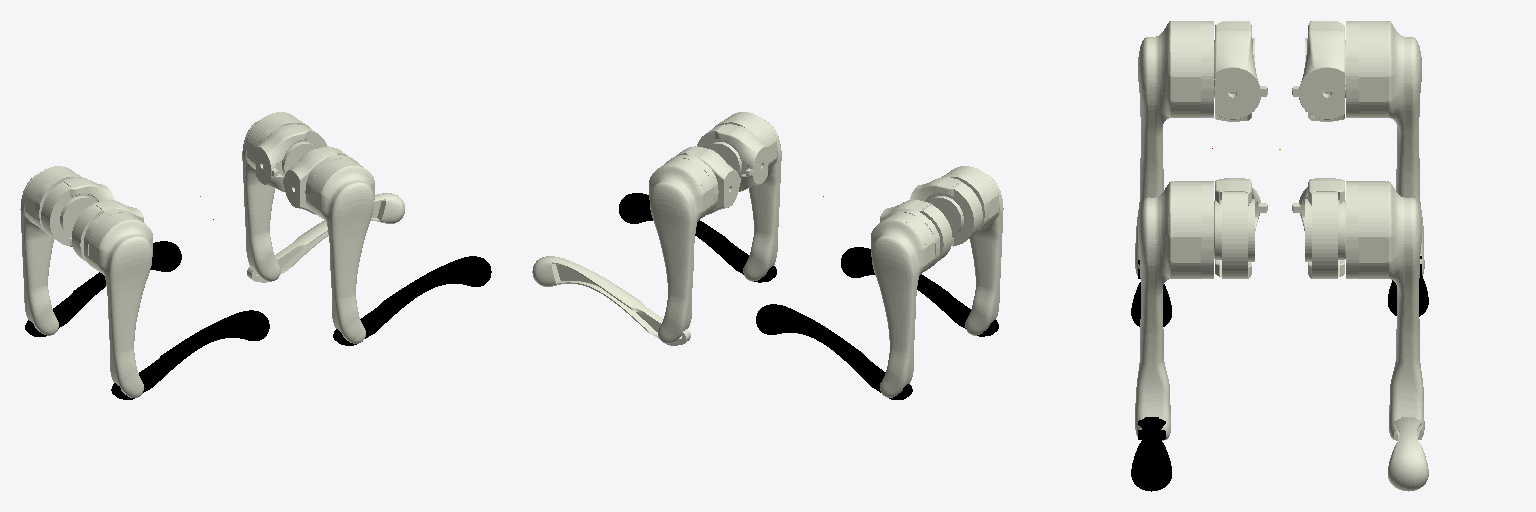
The robot description file, URDF, robot "go1_description":
<?xml version="1.0" ?>
<robot name="go1_description" xmlns:xacro="http://www.ros.org/wiki/xacro">
  <material name="black">
    <color rgba="0.0 0.0 0.0 1.0"/>
  </material>
  <material name="blue">
    <color rgba="0.0 0.0 0.8 1.0"/>
  </material>
  <material name="green">
    <color rgba="0.0 0.8 0.0 1.0"/>
  </material>
  <material name="grey">
    <color rgba="0.2 0.2 0.2 1.0"/>
  </material>
  <material name="silver">
    <color rgba="0.913725490196 0.913725490196 0.847058823529 1.0"/>
  </material>
  <material name="orange">
    <color rgba="1.0 0.423529411765 0.0392156862745 1.0"/>
  </material>
  <material name="brown">
    <color rgba="0.870588235294 0.811764705882 0.764705882353 1.0"/>
  </material>
  <material name="red">
    <color rgba="0.8 0.0 0.0 1.0"/>
  </material>
  <material name="white">
    <color rgba="1.0 1.0 1.0 1.0"/>
  </material>


  <link name="base">
    <visual>
      <origin rpy="0 0 0" xyz="0 0 0"/>
      <geometry>
        <box size="0.001 0.001 0.001"/>
      </geometry>
    </visual>
  </link>
  <joint name="floating_base" type="fixed">
    <origin rpy="0 0 0" xyz="0 0 0"/>
    <parent link="base"/>
    <child link="trunk"/>
  </joint>
  <link name="trunk">
    <visual>
      <origin rpy="0 0 0" xyz="0 0 0"/>
      <geometry>
        <mesh filename="../meshes/trunk.stl" scale="1 1 1"/>
      </geometry>
      <material name="silver"/>
    </visual>
    <collision>
      <origin rpy="0 0 0" xyz="0 0 0"/>
      <geometry>
        <box size="0.3762 0.0935 0.114"/>
      </geometry>
    </collision>
    <inertial>
      <origin rpy="0 0 0" xyz="0.011611 0.004437 0.000108"/>
      <mass value="4.8"/>
      <inertia ixx="0.016130741919" ixy="0.000593180607" ixz="7.324662e-06" iyy="0.036507810812" iyz="2.0969537e-05" izz="0.044693872053"/>
    </inertial>
  </link>
  <joint name="imu_joint" type="fixed">
    <parent link="trunk"/>
    <child link="imu_link"/>
    <origin rpy="0 0 0" xyz="-0.01592 -0.06659 -0.00617"/>
  </joint>
  <link name="imu_link">
    <inertial>
      <mass value="0.001"/>
      <origin rpy="0 0 0" xyz="0 0 0"/>
      <inertia ixx="0.0001" ixy="0" ixz="0" iyy="0.0001" iyz="0" izz="0.0001"/>
    </inertial>
    <visual>
      <origin rpy="0 0 0" xyz="0 0 0"/>
      <geometry>
        <box size="0.001 0.001 0.001"/>
      </geometry>
      <material name="red"/>
    </visual>
    <!-- <collision>
      <origin rpy="0 0 0" xyz="0 0 0"/>
      <geometry>
        <box size=".001 .001 .001"/>
      </geometry>
    </collision> -->
  </link>
  <joint name="FR_hip_joint" type="revolute">
    <origin rpy="0 0 0" xyz="0.1881 -0.04675 0"/>
    <parent link="trunk"/>
    <child link="FR_hip"/>
    <axis xyz="1 0 0"/>
    <dynamics damping="0" friction="0"/>
    <limit effort="33.5" lower="-0.802851455917" upper="0.802851455917" velocity="50"/>
  </joint>
  <link name="FR_hip">
    <visual>
      <origin rpy="3.14159265359 0 0" xyz="0 0 0"/>
      <geometry>
        <mesh filename="../meshes/hip.stl" scale="1 1 1"/>
      </geometry>
      <material name="silver"/>
    </visual>
    <collision>
      <origin rpy="1.57079632679 0 0" xyz="0 -0.045 0"/>
      <geometry>
        <cylinder length="0.04" radius="0.046"/>
      </geometry>
    </collision>
    <inertial>
      <origin rpy="0 0 0" xyz="-0.00541 0.00074 6e-06"/>
      <mass value="0.510299"/>
      <inertia ixx="0.00030528937" ixy="7.788013e-06" ixz="2.2016e-07" iyy="0.000590894859" iyz="1.7175e-08" izz="0.000396594572"/>
    </inertial>
  </link>
  <joint name="FR_hip_fixed" type="fixed">
    <origin rpy="0 0 0" xyz="0 -0.08 0"/>
    <parent link="FR_hip"/>
    <child link="FR_thigh_shoulder"/>
  </joint>
  <!-- this link is only for collision -->
  <link name="FR_thigh_shoulder">
    <!-- <collision>
      <origin rpy="1.57079632679 0 0" xyz="0 0 0"/>
      <geometry>
        <cylinder length="0.032" radius="0.041"/>
      </geometry>
    </collision> -->
  </link>
  <joint name="FR_thigh_joint" type="revolute">
    <origin rpy="0 0 0" xyz="0 -0.08 0"/>
    <parent link="FR_hip"/>
    <child link="FR_thigh"/>
    <axis xyz="0 1 0"/>
    <dynamics damping="0" friction="0"/>
    <limit effort="33.5" lower="-1.0471975512" upper="4.18879020479" velocity="28"/>
  </joint>
  <link name="FR_thigh">
    <visual>
      <origin rpy="0 0 0" xyz="0 0 0"/>
      <geometry>
        <mesh filename="../meshes/thigh_mirror.stl" scale="1 1 1"/>
      </geometry>
      <material name="silver"/>
    </visual>
    <collision>
      <origin rpy="0 1.57079632679 0" xyz="0 0 -0.1065"/>
      <geometry>
        <box size="0.213 0.0245 0.034"/>
      </geometry>
    </collision>
    <inertial>
      <origin rpy="0 0 0" xyz="-0.003468 0.018947 -0.032736"/>
      <mass value="0.898919"/>
      <inertia ixx="0.005395867678" ixy="-1.02809e-07" ixz="0.000337529085" iyy="0.005142451046" iyz="5.816563e-06" izz="0.00102478732"/>
    </inertial>
  </link>
  <joint name="FR_calf_joint" type="revolute">
    <origin rpy="0 0 0" xyz="0 0 -0.213"/>
    <parent link="FR_thigh"/>
    <child link="FR_calf"/>
    <axis xyz="0 1 0"/>
    <dynamics damping="0" friction="0"/>
    <limit effort="33.5" lower="-2.69653369433" upper="-0.916297857297" velocity="28"/>
  </joint>
  <link name="FR_calf">
    <visual>
      <origin rpy="0 0 0" xyz="0 0 0"/>
      <geometry>
        <mesh filename="../meshes/calf.stl" scale="1 1 1"/>
      </geometry>
      <material name="black"/>
    </visual>
    <collision>
      <origin rpy="0 1.57079632679 0" xyz="0 0 -0.1065"/>
      <geometry>
        <box size="0.213 0.016 0.016"/>
      </geometry>
    </collision>
    <inertial>
      <origin rpy="0 0 0" xyz="0.006286 0.001307 -0.122269"/>
      <mass value="0.158015"/>
      <inertia ixx="0.003607648222" ixy="1.494971e-06" ixz="-0.000132778525" iyy="0.003626771492" iyz="-2.8638535e-05" izz="3.5148003e-05"/>
    </inertial>
  </link>
  <joint name="FR_foot_fixed" type="fixed" dont_collapse="true">
    <origin rpy="0 0 0" xyz="0 0 -0.213"/>
    <parent link="FR_calf"/>
    <child link="FR_foot"/>
  </joint>
  <link name="FR_foot">
    <visual>
      <origin rpy="0 0 0" xyz="0 0 0"/>
      <geometry>
        <sphere radius="0.01"/>
      </geometry>
      <material name="black"/>
    </visual>
    <collision>
      <origin rpy="0 0 0" xyz="0 0 0"/>
      <geometry>
        <sphere radius="0.02"/>
      </geometry>
    </collision>
    <inertial>
      <mass value="0.06"/>
      <inertia ixx="9.6e-06" ixy="0.0" ixz="0.0" iyy="9.6e-06" iyz="0.0" izz="9.6e-06"/>
    </inertial>
  </link>

  <joint name="FL_hip_joint" type="revolute">
    <origin rpy="0 0 0" xyz="0.1881 0.04675 0"/>
    <parent link="trunk"/>
    <child link="FL_hip"/>
    <axis xyz="1 0 0"/>
    <dynamics damping="0" friction="0"/>
    <limit effort="33.5" lower="-0.802851455917" upper="0.802851455917" velocity="50"/>
  </joint>
  <link name="FL_hip">
    <visual>
      <origin rpy="0 0 0" xyz="0 0 0"/>
      <geometry>
        <mesh filename="../meshes/hip.stl" scale="1 1 1"/>
      </geometry>
      <material name="silver"/>
    </visual>
    <collision>
      <origin rpy="1.57079632679 0 0" xyz="0 0.045 0"/>
      <geometry>
        <cylinder length="0.04" radius="0.046"/>
      </geometry>
    </collision>
    <inertial>
      <origin rpy="0 0 0" xyz="-0.00541 -0.00074 6e-06"/>
      <mass value="0.510299"/>
      <inertia ixx="0.00030528937" ixy="-7.788013e-06" ixz="2.2016e-07" iyy="0.000590894859" iyz="-1.7175e-08" izz="0.000396594572"/>
    </inertial>
  </link>
  <joint name="FL_hip_fixed" type="fixed">
    <origin rpy="0 0 0" xyz="0 0.08 0"/>
    <parent link="FL_hip"/>
    <child link="FL_thigh_shoulder"/>
  </joint>
  <!-- this link is only for collision -->
  <link name="FL_thigh_shoulder">
    <!-- <collision>
      <origin rpy="1.57079632679 0 0" xyz="0 0 0"/>
      <geometry>
        <cylinder length="0.032" radius="0.041"/>
      </geometry>
    </collision>  -->
  </link>
  <joint name="FL_thigh_joint" type="revolute">
    <origin rpy="0 0 0" xyz="0 0.08 0"/>
    <parent link="FL_hip"/>
    <child link="FL_thigh"/>
    <axis xyz="0 1 0"/>
    <dynamics damping="0" friction="0"/>
    <limit effort="33.5" lower="-1.0471975512" upper="4.18879020479" velocity="28"/>
  </joint>
  <link name="FL_thigh">
    <visual>
      <origin rpy="0 0 0" xyz="0 0 0"/>
      <geometry>
        <mesh filename="../meshes/thigh.stl" scale="1 1 1"/>
      </geometry>
      <material name="silver"/>
    </visual>
    <collision>
      <origin rpy="0 1.57079632679 0" xyz="0 0 -0.1065"/>
      <geometry>
        <box size="0.213 0.0245 0.034"/>
      </geometry>
    </collision>
    <inertial>
      <origin rpy="0 0 0" xyz="-0.003468 -0.018947 -0.032736"/>
      <mass value="0.898919"/>
      <inertia ixx="0.005395867678" ixy="1.02809e-07" ixz="0.000337529085" iyy="0.005142451046" iyz="-5.816563e-06" izz="0.00102478732"/>
    </inertial>
  </link>
  <joint name="FL_calf_joint" type="revolute">
    <origin rpy="0 0 0" xyz="0 0 -0.213"/>
    <parent link="FL_thigh"/>
    <child link="FL_calf"/>
    <axis xyz="0 1 0"/>
    <dynamics damping="0" friction="0"/>
    <limit effort="33.5" lower="-2.69653369433" upper="-0.916297857297" velocity="28"/>
  </joint>
  <link name="FL_calf">
    <visual>
      <origin rpy="0 0 0" xyz="0 0 0"/>
      <geometry>
        <mesh filename="../meshes/calf.stl" scale="1 1 1"/>
      </geometry>
      <material name="silver"/>
    </visual>
    <collision>
      <origin rpy="0 1.57079632679 0" xyz="0 0 -0.1065"/>
      <geometry>
        <box size="0.213 0.016 0.016"/>
      </geometry>
    </collision>
    <inertial>
      <origin rpy="0 0 0" xyz="0.006286 0.001307 -0.122269"/>
      <mass value="0.158015"/>
      <inertia ixx="0.003607648222" ixy="1.494971e-06" ixz="-0.000132778525" iyy="0.003626771492" iyz="-2.8638535e-05" izz="3.5148003e-05"/>
    </inertial>
  </link>
  <joint name="FL_foot_fixed" type="fixed" dont_collapse="true">
    <origin rpy="0 0 0" xyz="0 0 -0.213"/>
    <parent link="FL_calf"/>
    <child link="FL_foot"/>
  </joint>
  <link name="FL_foot">
    <visual>
      <origin rpy="0 0 0" xyz="0 0 0"/>
      <geometry>
        <sphere radius="0.01"/>
      </geometry>
      <material name="black"/>
    </visual>
    <collision>
      <origin rpy="0 0 0" xyz="0 0 0"/>
      <geometry>
        <sphere radius="0.02"/>
      </geometry>
    </collision>
    <inertial>
      <mass value="0.06"/>
      <inertia ixx="9.6e-06" ixy="0.0" ixz="0.0" iyy="9.6e-06" iyz="0.0" izz="9.6e-06"/>
    </inertial>
  </link>

  <joint name="RR_hip_joint" type="revolute">
    <origin rpy="0 0 0" xyz="-0.1881 -0.04675 0"/>
    <parent link="trunk"/>
    <child link="RR_hip"/>
    <axis xyz="1 0 0"/>
    <dynamics damping="0" friction="0"/>
    <limit effort="33.5" lower="-0.802851455917" upper="0.802851455917" velocity="50"/>
  </joint>
  <link name="RR_hip">
    <visual>
      <origin rpy="3.14159265359 3.14159265359 0" xyz="0 0 0"/>
      <geometry>
        <mesh filename="../meshes/hip.stl" scale="1 1 1"/>
      </geometry>
      <material name="silver"/>
    </visual>
    <collision>
      <origin rpy="1.57079632679 0 0" xyz="0 -0.045 0"/>
      <geometry>
        <cylinder length="0.04" radius="0.046"/>
      </geometry>
    </collision>
    <inertial>
      <origin rpy="0 0 0" xyz="0.00541 0.00074 6e-06"/>
      <mass value="0.510299"/>
      <inertia ixx="0.00030528937" ixy="-7.788013e-06" ixz="-2.2016e-07" iyy="0.000590894859" iyz="1.7175e-08" izz="0.000396594572"/>
    </inertial>
  </link>
  <joint name="RR_hip_fixed" type="fixed">
    <origin rpy="0 0 0" xyz="0 -0.08 0"/>
    <parent link="RR_hip"/>
    <child link="RR_thigh_shoulder"/>
  </joint>
  <!-- this link is only for collision -->
  <link name="RR_thigh_shoulder">
    <!-- <collision>
      <origin rpy="1.57079632679 0 0" xyz="0 0 0"/>
      <geometry>
        <cylinder length="0.032" radius="0.041"/>
      </geometry>
    </collision> -->
  </link>
  <joint name="RR_thigh_joint" type="revolute">
    <origin rpy="0 0 0" xyz="0 -0.08 0"/>
    <parent link="RR_hip"/>
    <child link="RR_thigh"/>
    <axis xyz="0 1 0"/>
    <dynamics damping="0" friction="0"/>
    <limit effort="33.5" lower="-1.0471975512" upper="4.18879020479" velocity="28"/>
  </joint>
  <link name="RR_thigh">
    <visual>
      <origin rpy="0 0 0" xyz="0 0 0"/>
      <geometry>
        <mesh filename="../meshes/thigh_mirror.stl" scale="1 1 1"/>
      </geometry>
      <material name="silver"/>
    </visual>
    <collision>
      <origin rpy="0 1.57079632679 0" xyz="0 0 -0.1065"/>
      <geometry>
        <box size="0.213 0.0245 0.034"/>
      </geometry>
    </collision>
    <inertial>
      <origin rpy="0 0 0" xyz="-0.003468 0.018947 -0.032736"/>
      <mass value="0.898919"/>
      <inertia ixx="0.005395867678" ixy="-1.02809e-07" ixz="0.000337529085" iyy="0.005142451046" iyz="5.816563e-06" izz="0.00102478732"/>
    </inertial>
  </link>
  <joint name="RR_calf_joint" type="revolute">
    <origin rpy="0 0 0" xyz="0 0 -0.213"/>
    <parent link="RR_thigh"/>
    <child link="RR_calf"/>
    <axis xyz="0 1 0"/>
    <dynamics damping="0" friction="0"/>
    <limit effort="33.5" lower="-2.69653369433" upper="-0.916297857297" velocity="28"/>
  </joint>
  <link name="RR_calf">
    <visual>
      <origin rpy="0 0 0" xyz="0 0 0"/>
      <geometry>
        <mesh filename="../meshes/calf.stl" scale="1 1 1"/>
      </geometry>
      <material name="black"/>
    </visual>
    <collision>
      <origin rpy="0 1.57079632679 0" xyz="0 0 -0.1065"/>
      <geometry>
        <box size="0.213 0.016 0.016"/>
      </geometry>
    </collision>
    <inertial>
      <origin rpy="0 0 0" xyz="0.006286 0.001307 -0.122269"/>
      <mass value="0.158015"/>
      <inertia ixx="0.003607648222" ixy="1.494971e-06" ixz="-0.000132778525" iyy="0.003626771492" iyz="-2.8638535e-05" izz="3.5148003e-05"/>
    </inertial>
  </link>
  <joint name="RR_foot_fixed" type="fixed" dont_collapse="true">
    <origin rpy="0 0 0" xyz="0 0 -0.213"/>
    <parent link="RR_calf"/>
    <child link="RR_foot"/>
  </joint>
  <link name="RR_foot">
    <visual>
      <origin rpy="0 0 0" xyz="0 0 0"/>
      <geometry>
        <sphere radius="0.01"/>
      </geometry>
      <material name="black"/>
    </visual>
    <collision>
      <origin rpy="0 0 0" xyz="0 0 0"/>
      <geometry>
        <sphere radius="0.02"/>
      </geometry>
    </collision>
    <inertial>
      <mass value="0.06"/>
      <inertia ixx="9.6e-06" ixy="0.0" ixz="0.0" iyy="9.6e-06" iyz="0.0" izz="9.6e-06"/>
    </inertial>
  </link>

  <joint name="RL_hip_joint" type="revolute">
    <origin rpy="0 0 0" xyz="-0.1881 0.04675 0"/>
    <parent link="trunk"/>
    <child link="RL_hip"/>
    <axis xyz="1 0 0"/>
    <dynamics damping="0" friction="0"/>
    <limit effort="33.5" lower="-0.802851455917" upper="0.802851455917" velocity="50"/>
  </joint>
  <link name="RL_hip">
    <visual>
      <origin rpy="0 3.14159265359 0" xyz="0 0 0"/>
      <geometry>
        <mesh filename="../meshes/hip.stl" scale="1 1 1"/>
      </geometry>
      <material name="silver"/>
    </visual>
    <collision>
      <origin rpy="1.57079632679 0 0" xyz="0 0.045 0"/>
      <geometry>
        <cylinder length="0.04" radius="0.046"/>
      </geometry>
    </collision>
    <inertial>
      <origin rpy="0 0 0" xyz="0.00541 -0.00074 6e-06"/>
      <mass value="0.510299"/>
      <inertia ixx="0.00030528937" ixy="7.788013e-06" ixz="-2.2016e-07" iyy="0.000590894859" iyz="-1.7175e-08" izz="0.000396594572"/>
    </inertial>
  </link>
  <joint name="RL_hip_fixed" type="fixed">
    <origin rpy="0 0 0" xyz="0 0.08 0"/>
    <parent link="RL_hip"/>
    <child link="RL_thigh_shoulder"/>
  </joint>
  <!-- this link is only for collision -->
  <link name="RL_thigh_shoulder">
    <!-- <collision>
      <origin rpy="1.57079632679 0 0" xyz="0 0 0"/>
      <geometry>
        <cylinder length="0.032" radius="0.041"/>
      </geometry>
    </collision> -->
  </link>
  <joint name="RL_thigh_joint" type="revolute">
    <origin rpy="0 0 0" xyz="0 0.08 0"/>
    <parent link="RL_hip"/>
    <child link="RL_thigh"/>
    <axis xyz="0 1 0"/>
    <dynamics damping="0" friction="0"/>
    <limit effort="33.5" lower="-1.0471975512" upper="4.18879020479" velocity="28"/>
  </joint>
  <link name="RL_thigh">
    <visual>
      <origin rpy="0 0 0" xyz="0 0 0"/>
      <geometry>
        <mesh filename="../meshes/thigh.stl" scale="1 1 1"/>
      </geometry>
      <material name="silver"/>
    </visual>
    <collision>
      <origin rpy="0 1.57079632679 0" xyz="0 0 -0.1065"/>
      <geometry>
        <box size="0.213 0.0245 0.034"/>
      </geometry>
    </collision>
    <inertial>
      <origin rpy="0 0 0" xyz="-0.003468 -0.018947 -0.032736"/>
      <mass value="0.898919"/>
      <inertia ixx="0.005395867678" ixy="1.02809e-07" ixz="0.000337529085" iyy="0.005142451046" iyz="-5.816563e-06" izz="0.00102478732"/>
    </inertial>
  </link>
  <joint name="RL_calf_joint" type="revolute">
    <origin rpy="0 0 0" xyz="0 0 -0.213"/>
    <parent link="RL_thigh"/>
    <child link="RL_calf"/>
    <axis xyz="0 1 0"/>
    <dynamics damping="0" friction="0"/>
    <limit effort="33.5" lower="-2.8" upper="-0.916297857297" velocity="28"/>
  </joint>
  <link name="RL_calf">
    <visual>
      <origin rpy="0 0 0" xyz="0 0 0"/>
      <geometry>
        <mesh filename="../meshes/calf.stl" scale="1 1 1"/>
      </geometry>
      <material name="black"/>
    </visual>
    <collision>
      <origin rpy="0 1.57079632679 0" xyz="0 0 -0.1065"/>
      <geometry>
        <box size="0.213 0.016 0.016"/>
      </geometry>
    </collision>
    <inertial>
      <origin rpy="0 0 0" xyz="0.006286 0.001307 -0.122269"/>
      <mass value="0.158015"/>
      <inertia ixx="0.003607648222" ixy="1.494971e-06" ixz="-0.000132778525" iyy="0.003626771492" iyz="-2.8638535e-05" izz="3.5148003e-05"/>
    </inertial>
  </link>
  <joint name="RL_foot_fixed" type="fixed" dont_collapse="true">
    <origin rpy="0 0 0" xyz="0 0 -0.213"/>
    <parent link="RL_calf"/>
    <child link="RL_foot"/>
  </joint>
  <link name="RL_foot">
    <visual>
      <origin rpy="0 0 0" xyz="0 0 0"/>
      <geometry>
        <sphere radius="0.01"/>
      </geometry>
      <material name="black"/>
    </visual>
    <collision>
      <origin rpy="0 0 0" xyz="0 0 0"/>
      <geometry>
        <sphere radius="0.02"/>
      </geometry>
    </collision>
    <inertial>
      <mass value="0.06"/>
      <inertia ixx="9.6e-06" ixy="0.0" ixz="0.0" iyy="9.6e-06" iyz="0.0" izz="9.6e-06"/>
    </inertial>
  </link>
 </robot>

--- Render facts (derived) ---
3 views of the same robot in one strip: view 1: azimuth 30°, elevation 25°; view 2: azimuth 150°, elevation 25°; view 3: azimuth 270°, elevation 25° (orthographic).
Model go1_description with 23 links and 22 joints (12 revolute, 10 fixed), rooted at base, posed joints at zero except 4 at the middle of their limits (FR_calf_joint = -1.81, FL_calf_joint = -1.81, RR_calf_joint = -1.81, RL_calf_joint = -1.86).
Visible links, largest first — view 1: FR_thigh, RR_thigh, RL_thigh, FL_thigh, FR_calf, RR_calf, RL_hip, FL_hip, FL_calf, RL_calf, FR_hip, RR_hip; view 2: FL_thigh, RL_thigh, RR_thigh, FR_thigh, RL_calf, FL_calf, FR_hip, RR_hip, RR_calf, FR_calf, FL_hip, RL_hip; view 3: FR_thigh, FL_thigh, RR_thigh, RL_thigh, FR_hip, FL_hip, RR_hip, RL_hip, FR_calf, FL_calf, RR_calf, RL_calf.
Boxes of the visible links, <box> form: FR_thigh: <box>305,155,374,343</box>; RR_thigh: <box>84,209,152,397</box>; RL_thigh: <box>20,166,82,335</box>; FL_thigh: <box>242,112,309,281</box>; FR_calf: <box>333,256,491,345</box>; RR_calf: <box>111,310,269,399</box>; RL_hip: <box>41,177,113,246</box>; FL_hip: <box>256,124,326,192</box>; FL_calf: <box>247,193,404,282</box>; RL_calf: <box>25,241,181,336</box>; FR_hip: <box>283,146,347,214</box>; RR_hip: <box>72,200,143,263</box>; FL_thigh: <box>649,155,718,343</box>; RL_thigh: <box>871,209,939,397</box>; RR_thigh: <box>941,166,1003,335</box>; FR_thigh: <box>714,112,781,281</box>; RL_calf: <box>756,304,912,399</box>; FL_calf: <box>532,256,690,345</box>; FR_hip: <box>697,124,767,191</box>; RR_hip: <box>910,177,982,246</box>; RR_calf: <box>841,247,998,336</box>; FR_calf: <box>619,193,776,282</box>; FL_hip: <box>676,146,740,214</box>; RL_hip: <box>880,200,951,263</box>; FR_thigh: <box>1135,181,1213,440</box>; FL_thigh: <box>1346,181,1424,440</box>; RR_thigh: <box>1135,21,1213,275</box>; RL_thigh: <box>1346,21,1424,275</box>; FR_hip: <box>1214,178,1267,278</box>; FL_hip: <box>1292,178,1345,278</box>; RR_hip: <box>1214,21,1267,121</box>; RL_hip: <box>1292,21,1345,121</box>; FR_calf: <box>1131,417,1171,491</box>; FL_calf: <box>1388,417,1428,491</box>; RR_calf: <box>1131,260,1171,326</box>; RL_calf: <box>1388,256,1428,316</box>.
Bounding box of the posed robot: 0.6536 × 0.294 × 0.2796 m (x, y, z).
12 mesh visuals loaded from 5 distinct referenced files (4 binary STL); not drawn: 1 (reference not matched to a file when rendering).
